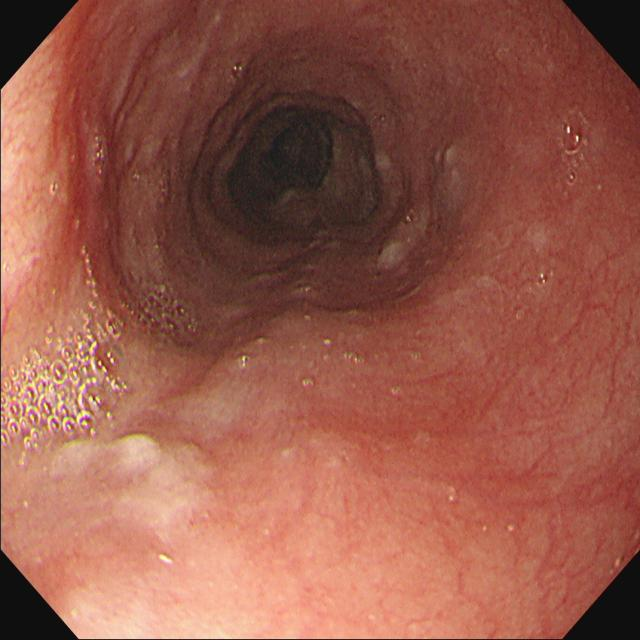E: (233, 108, 337, 224)
J: (57, 433, 221, 531), (377, 145, 465, 274)
T: (2, 307, 131, 455), (128, 285, 204, 339), (560, 106, 592, 192), (89, 118, 110, 182), (79, 242, 99, 304)
